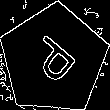P_SE: (24, 29, 84, 90)
